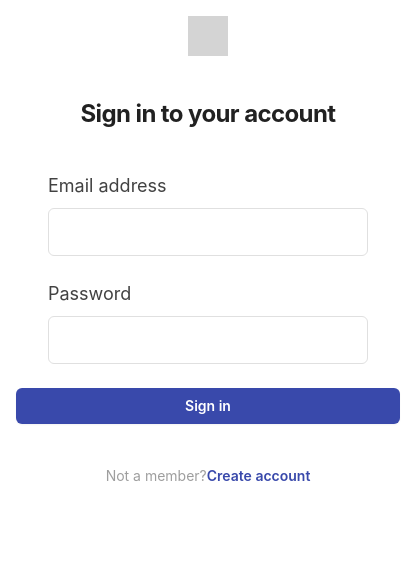
LoginForm › wyświetla błąd, gdy pola są puste
What coordinates should you click on to do the following:
click the button "Sign in"
I would click on:
 (208, 406)
Its box is [16,388,400,424].
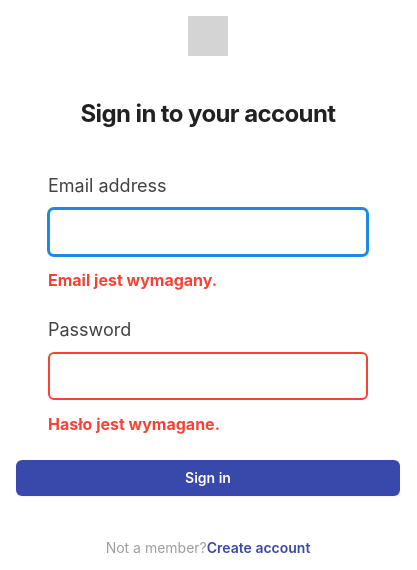
expect the text "Email jest wymagany." is shown: met, box [48,270,217,290]
expect the text "Hasło jest wymagane." is shown: met, box [48,414,220,434]
